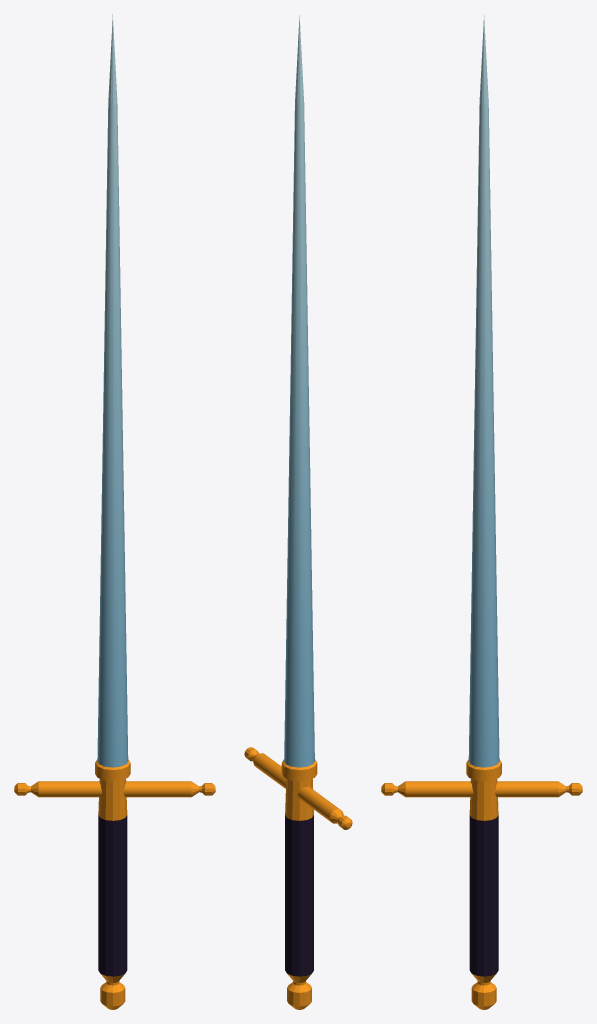
The model's file is Needle.FBX.
The picture shows the model from 3 angles, left to right: view 1: azimuth 90°, elevation 25°; view 2: azimuth 210°, elevation 25°; view 3: azimuth 270°, elevation 25°; orthographic projection.
Visible parts, largest first — view 1: Needle; view 2: Needle; view 3: Needle.
Boxes of the visible parts, box(x1,y1,x2,y2) form: Needle: box(14, 14, 215, 1009); Needle: box(244, 15, 352, 1009); Needle: box(381, 14, 582, 1009).
Bounding box in the file's own units: 2.3 × 70.62 × 12.96.
